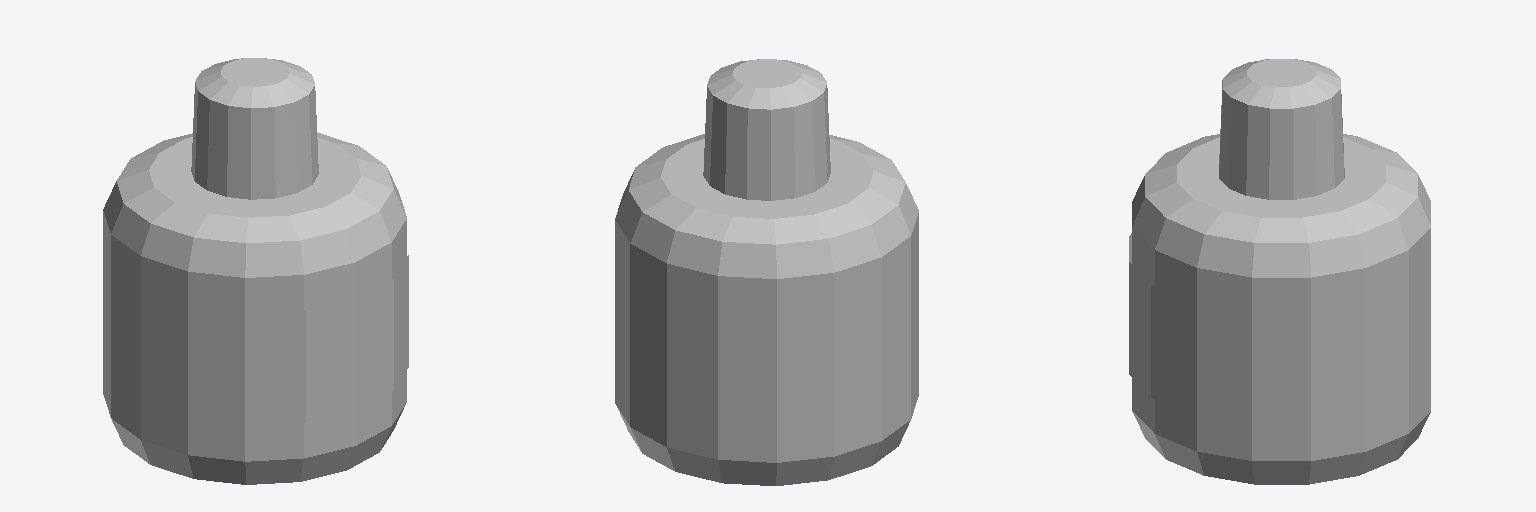
The model's file is container_bathroom_B_blue.obj.
The picture shows the model from 3 angles: view 1: azimuth 30°, elevation 25°; view 2: azimuth 150°, elevation 25°; view 3: azimuth 270°, elevation 25°; orthographic projection.
Parts seen in each view (by area): view 1: container_bathroom_B_blue; view 2: container_bathroom_B_blue; view 3: container_bathroom_B_blue.
Boxes of the visible parts, box(x1,y1,x2,y2) form: container_bathroom_B_blue: box(103, 58, 408, 484); container_bathroom_B_blue: box(615, 59, 918, 485); container_bathroom_B_blue: box(1129, 59, 1430, 484).
Bounding box in the file's own units: 0.312 × 0.422 × 0.3162.